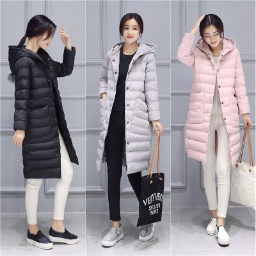face: (21, 15, 59, 51), (116, 11, 145, 45), (199, 14, 226, 49)
